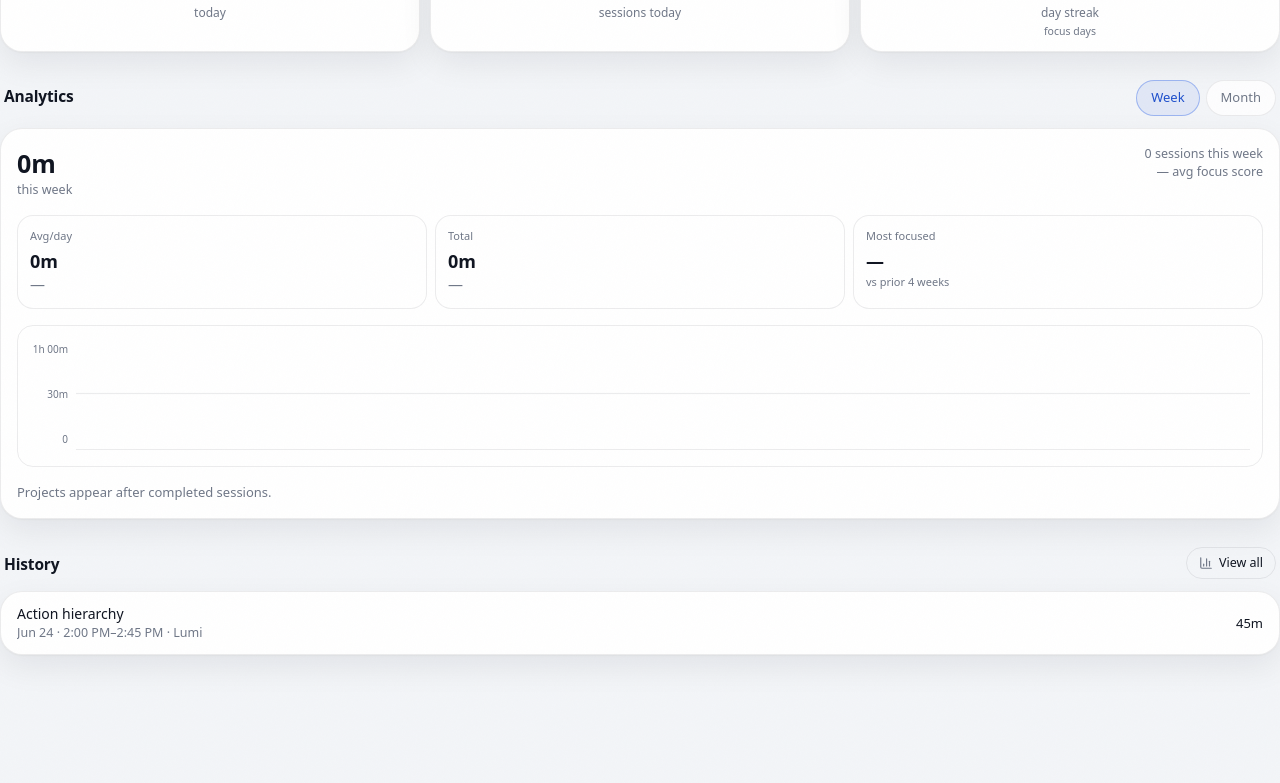
Test case: FocusPage › uses one edit session action and header trash action in session details
(page scrolled)
Step 1. Click the button "Action hierarchy Jun 24 · 2:00 PM–2:45 PM · Lumi 45m" → (70, 613), box [1, 592, 1279, 654]
(page scrolled)
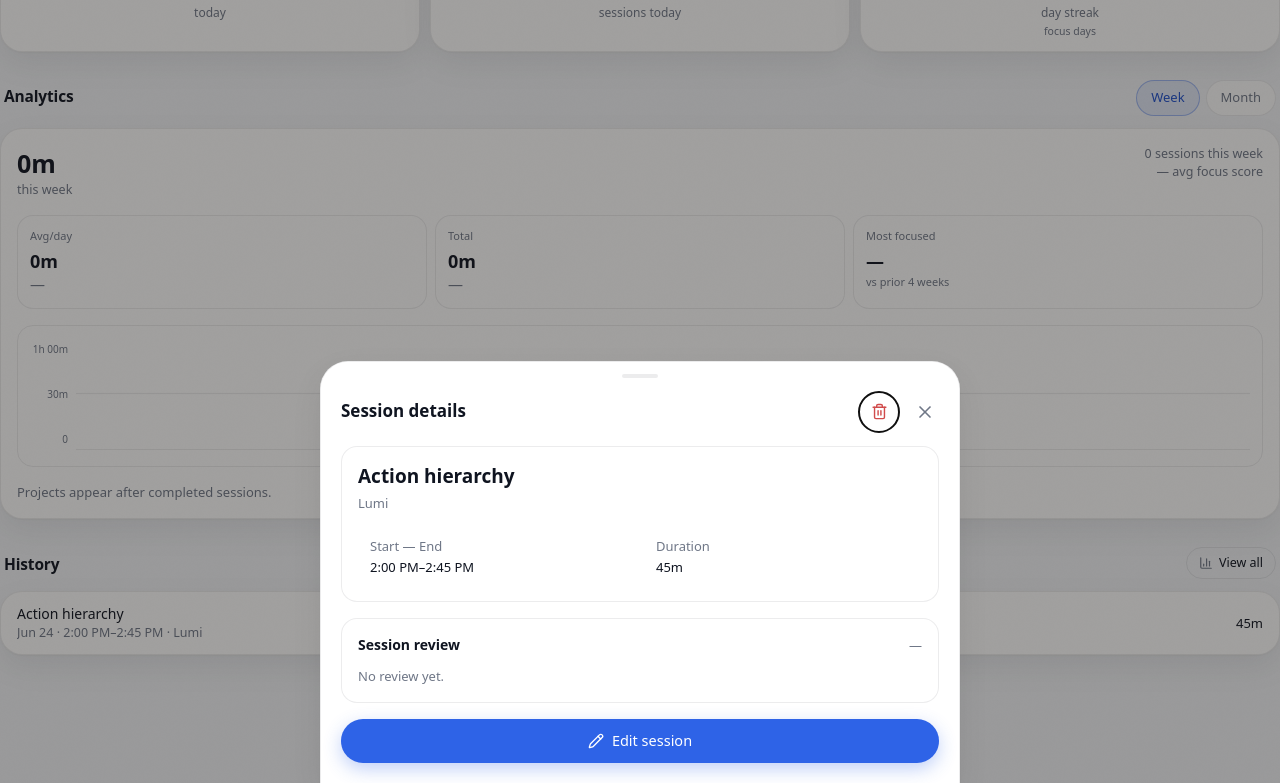
Expected: the button "Edit session" is shown, [341, 719, 939, 763]
Expected: the button named "delete session" is shown, [859, 392, 899, 432]
